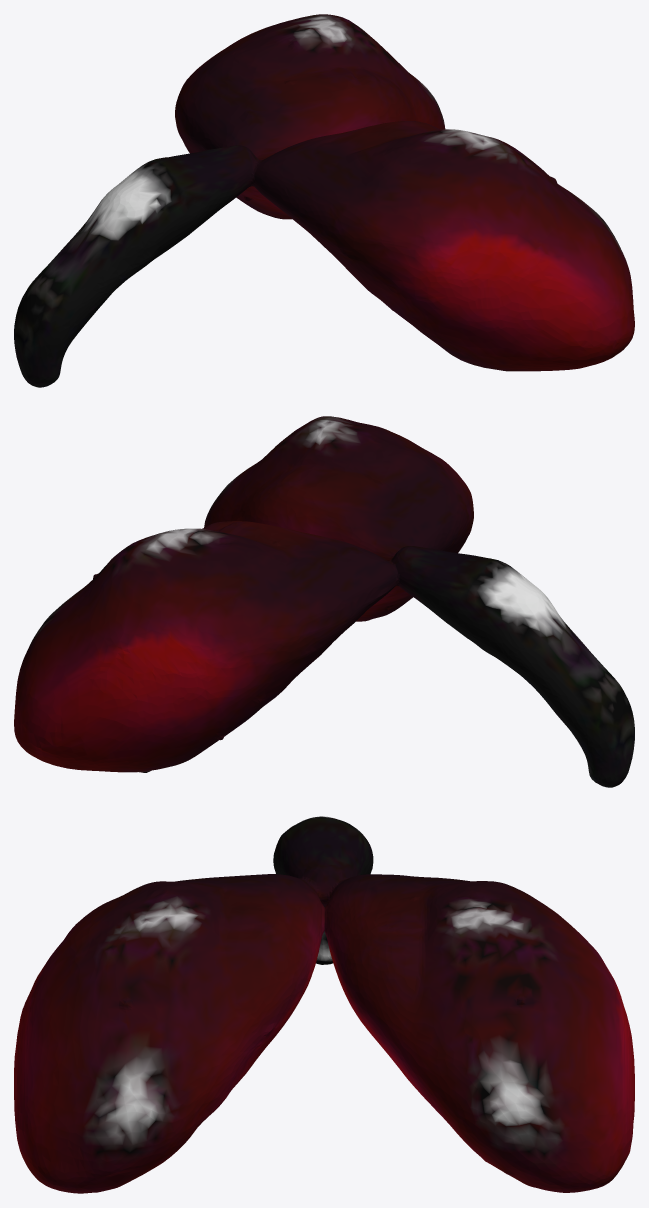
Rendered from insect_sting.glb.
3 renders of one model, top to bottom at view 1: azimuth 30°, elevation 25°; view 2: azimuth 150°, elevation 25°; view 3: azimuth 270°, elevation 25°, orthographic. The views are drawn at different scales.
Visible parts, largest first — view 1: geometry_0; view 2: geometry_0; view 3: geometry_0.
Boxes of the visible parts, x1,y1,x2,y2 form: geometry_0: (14, 14, 634, 387); geometry_0: (14, 416, 634, 787); geometry_0: (14, 816, 634, 1193).
Bounding box in the file's own units: 0.3438 × 0.1421 × 0.3343.
